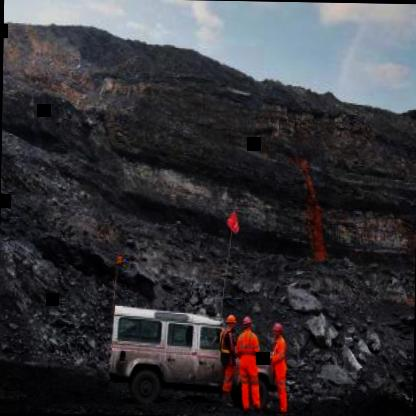helmet: (240, 313, 255, 334), (224, 312, 238, 334), (270, 320, 284, 341)
